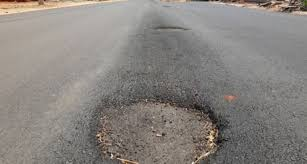Manhole-Closed: (89, 91, 235, 164), (149, 21, 197, 36)
